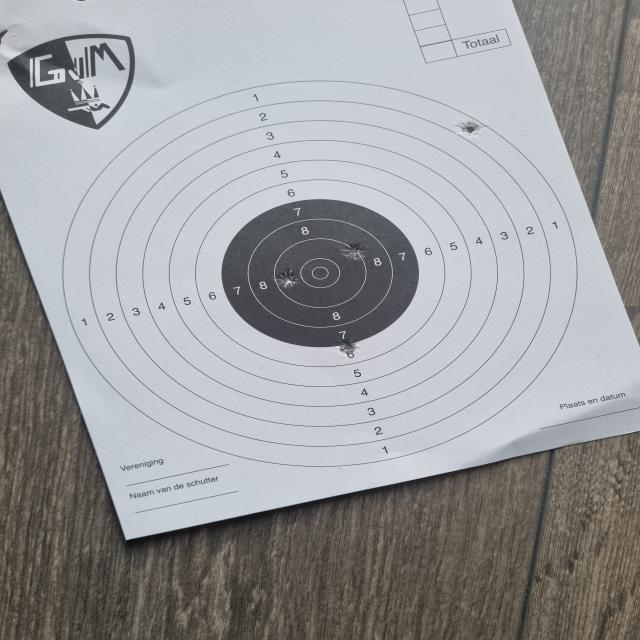1: (454, 121, 488, 136)
7: (339, 341, 360, 354)
9: (339, 242, 370, 260), (274, 269, 299, 288)
Target: (63, 80, 579, 468)
black_contour: (221, 199, 420, 348)
